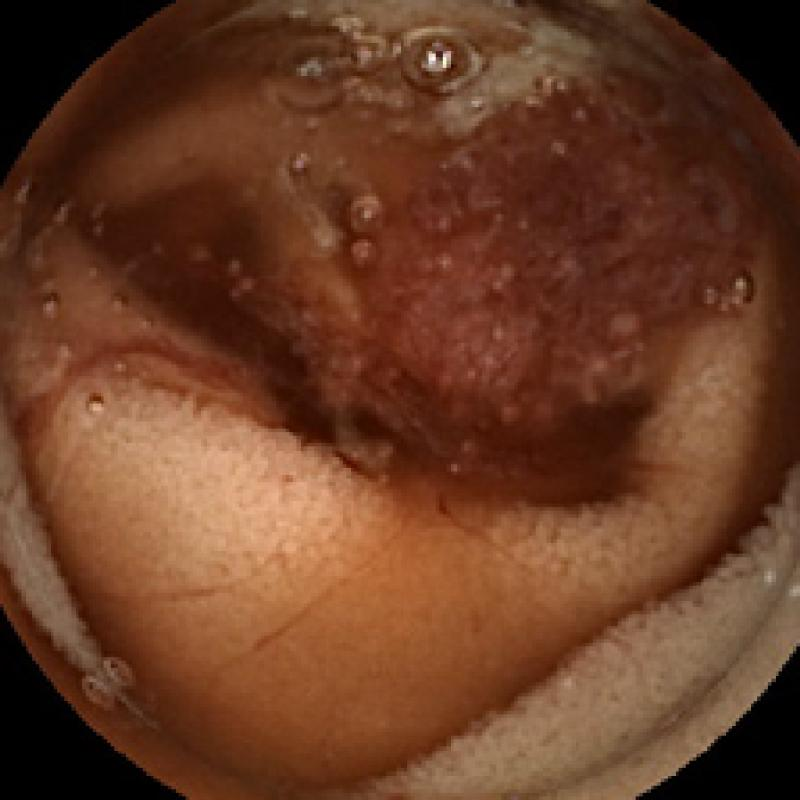bleeding: (364, 93, 750, 489), (4, 338, 278, 443)
